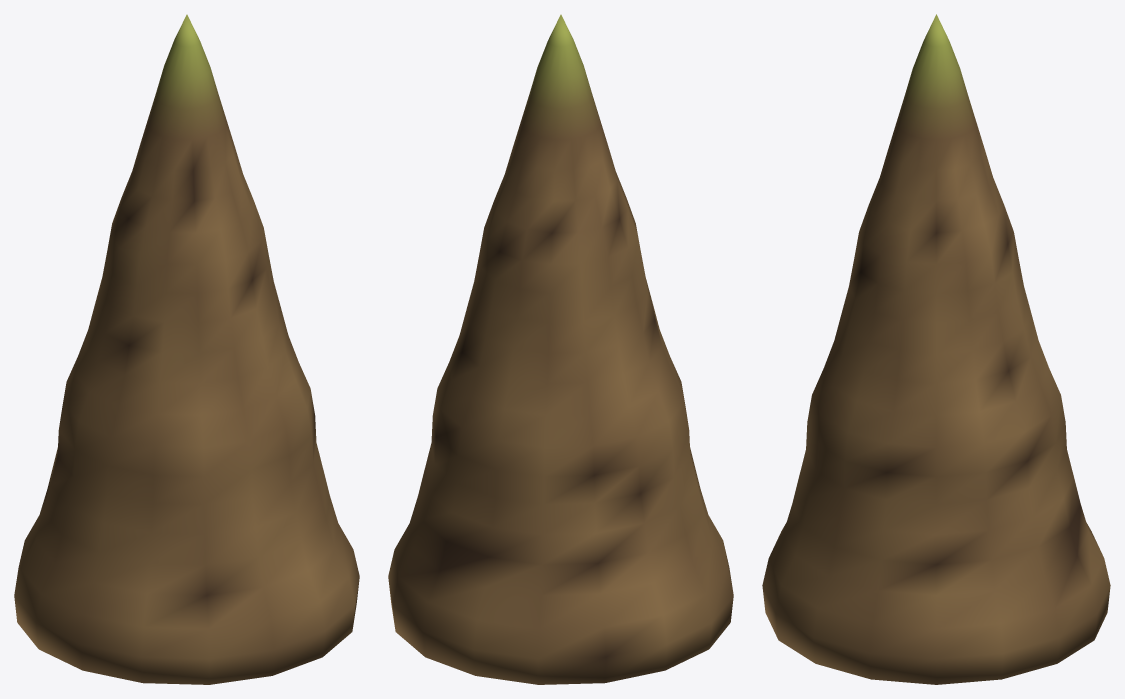
File: Night_BambooShoot.fbx
3 renders of one model, left to right at view 1: azimuth 30°, elevation 25°; view 2: azimuth 150°, elevation 25°; view 3: azimuth 270°, elevation 25°, orthographic.
Parts seen in each view (by area): view 1: Night_BambooShoot; view 2: Night_BambooShoot; view 3: Night_BambooShoot.
Part boxes in pixels (box(x1,y1,x2,y2)): Night_BambooShoot: box(14, 14, 359, 684); Night_BambooShoot: box(388, 14, 733, 684); Night_BambooShoot: box(762, 14, 1110, 684).
Size of the model in its own units: 2.95 by 5.8 by 2.95.
